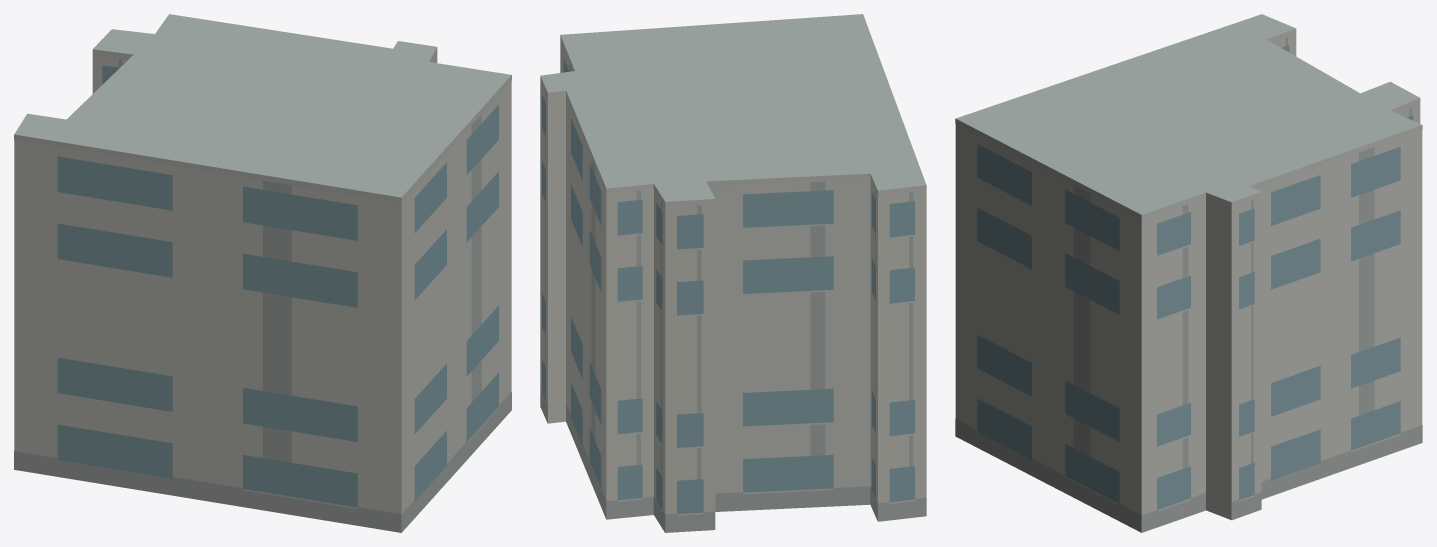
The model's file is survey-upis-32845866.glb.
3 views of the same model, side by side, from view 1: azimuth 30°, elevation 25°; view 2: azimuth 150°, elevation 25°; view 3: azimuth 270°, elevation 25° (orthographic). The views are drawn at different scales.
Visible parts, largest first — view 1: survey-upis-32845866.tmp; view 2: survey-upis-32845866.tmp; view 3: survey-upis-32845866.tmp.
Part boxes in pixels (<box>): survey-upis-32845866.tmp: <box>14,14,511,532</box>; survey-upis-32845866.tmp: <box>540,14,926,532</box>; survey-upis-32845866.tmp: <box>955,14,1422,532</box>.
Bounding box in the file's own units: 19.39 × 14.3 × 19.04.
